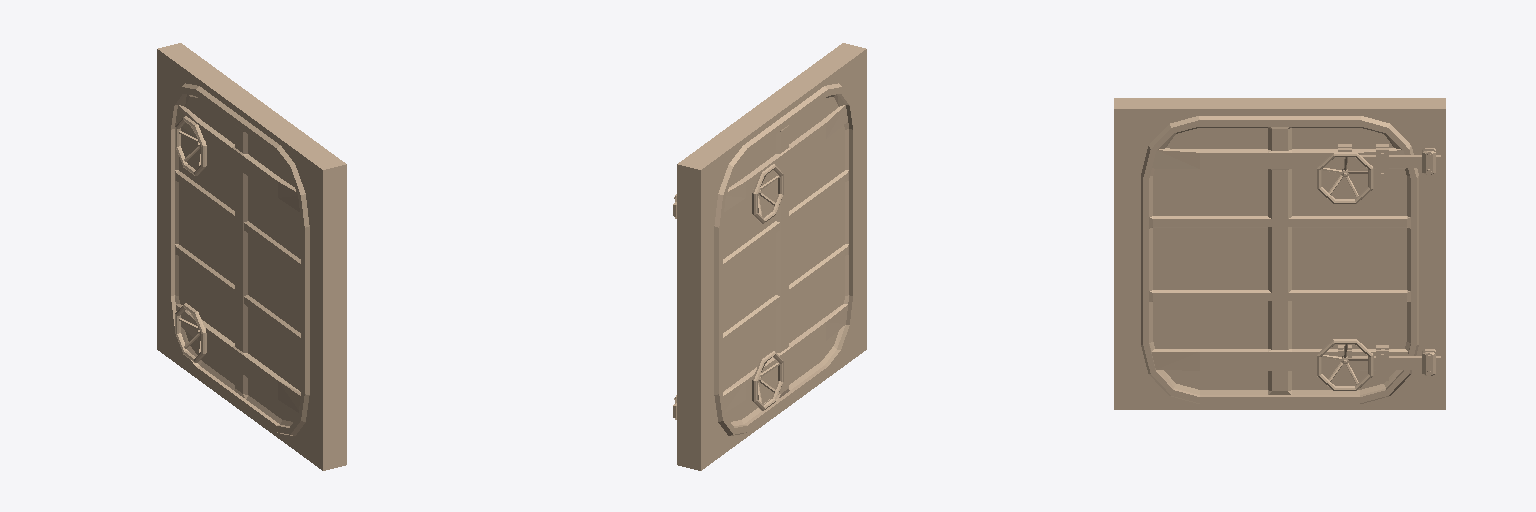
File: water_door_old.obj
The picture shows the model from 3 angles: view 1: azimuth 30°, elevation 25°; view 2: azimuth 150°, elevation 25°; view 3: azimuth 270°, elevation 25°; orthographic projection.
Visible parts, largest first — view 1: door, frame, spinny_upper, spinny_lower; view 2: door, frame, spinny_lower, spinny_upper; view 3: door, frame, bolt, spinny_upper, spinny_lower.
Boxes of the visible parts, <box> form: door: <box>175,94,300,425</box>; frame: <box>157,43,346,470</box>; spinny_upper: <box>175,116,206,175</box>; spinny_lower: <box>175,303,206,362</box>; door: <box>723,94,848,425</box>; frame: <box>674,43,866,470</box>; spinny_lower: <box>752,351,783,410</box>; spinny_upper: <box>752,164,783,223</box>; door: <box>1149,127,1410,394</box>; frame: <box>1114,98,1445,409</box>; bolt: <box>1334,155,1440,369</box>; spinny_upper: <box>1317,152,1373,203</box>; spinny_lower: <box>1317,339,1373,390</box>.
Size of the model in its own units: 0.7285 by 3 by 3.